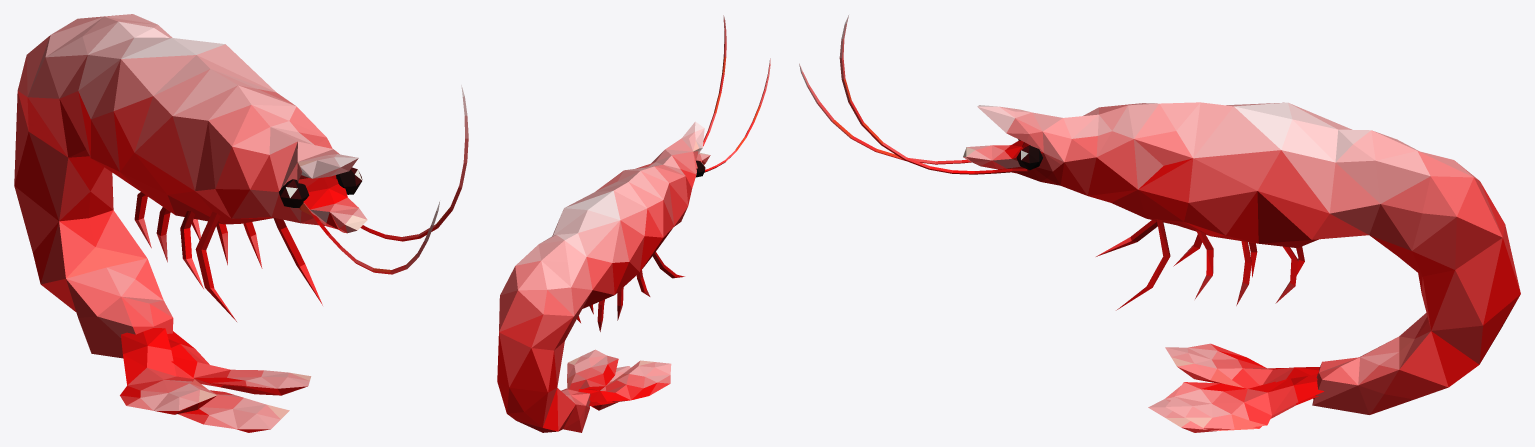
File: RomanceFish_Shrimp001.FBX
3 views of the same model, side by side, from view 1: azimuth 30°, elevation 25°; view 2: azimuth 150°, elevation 25°; view 3: azimuth 270°, elevation 25° (orthographic). The views are drawn at different scales.
Parts seen in each view (by area): view 1: Shrimp001; view 2: Shrimp001; view 3: Shrimp001.
Boxes of the visible parts, x1,y1,x2,y2 form: Shrimp001: [14, 14, 468, 432]; Shrimp001: [497, 15, 770, 432]; Shrimp001: [799, 15, 1520, 432].
Size of the model in its own units: 89.53 by 233 by 365.
